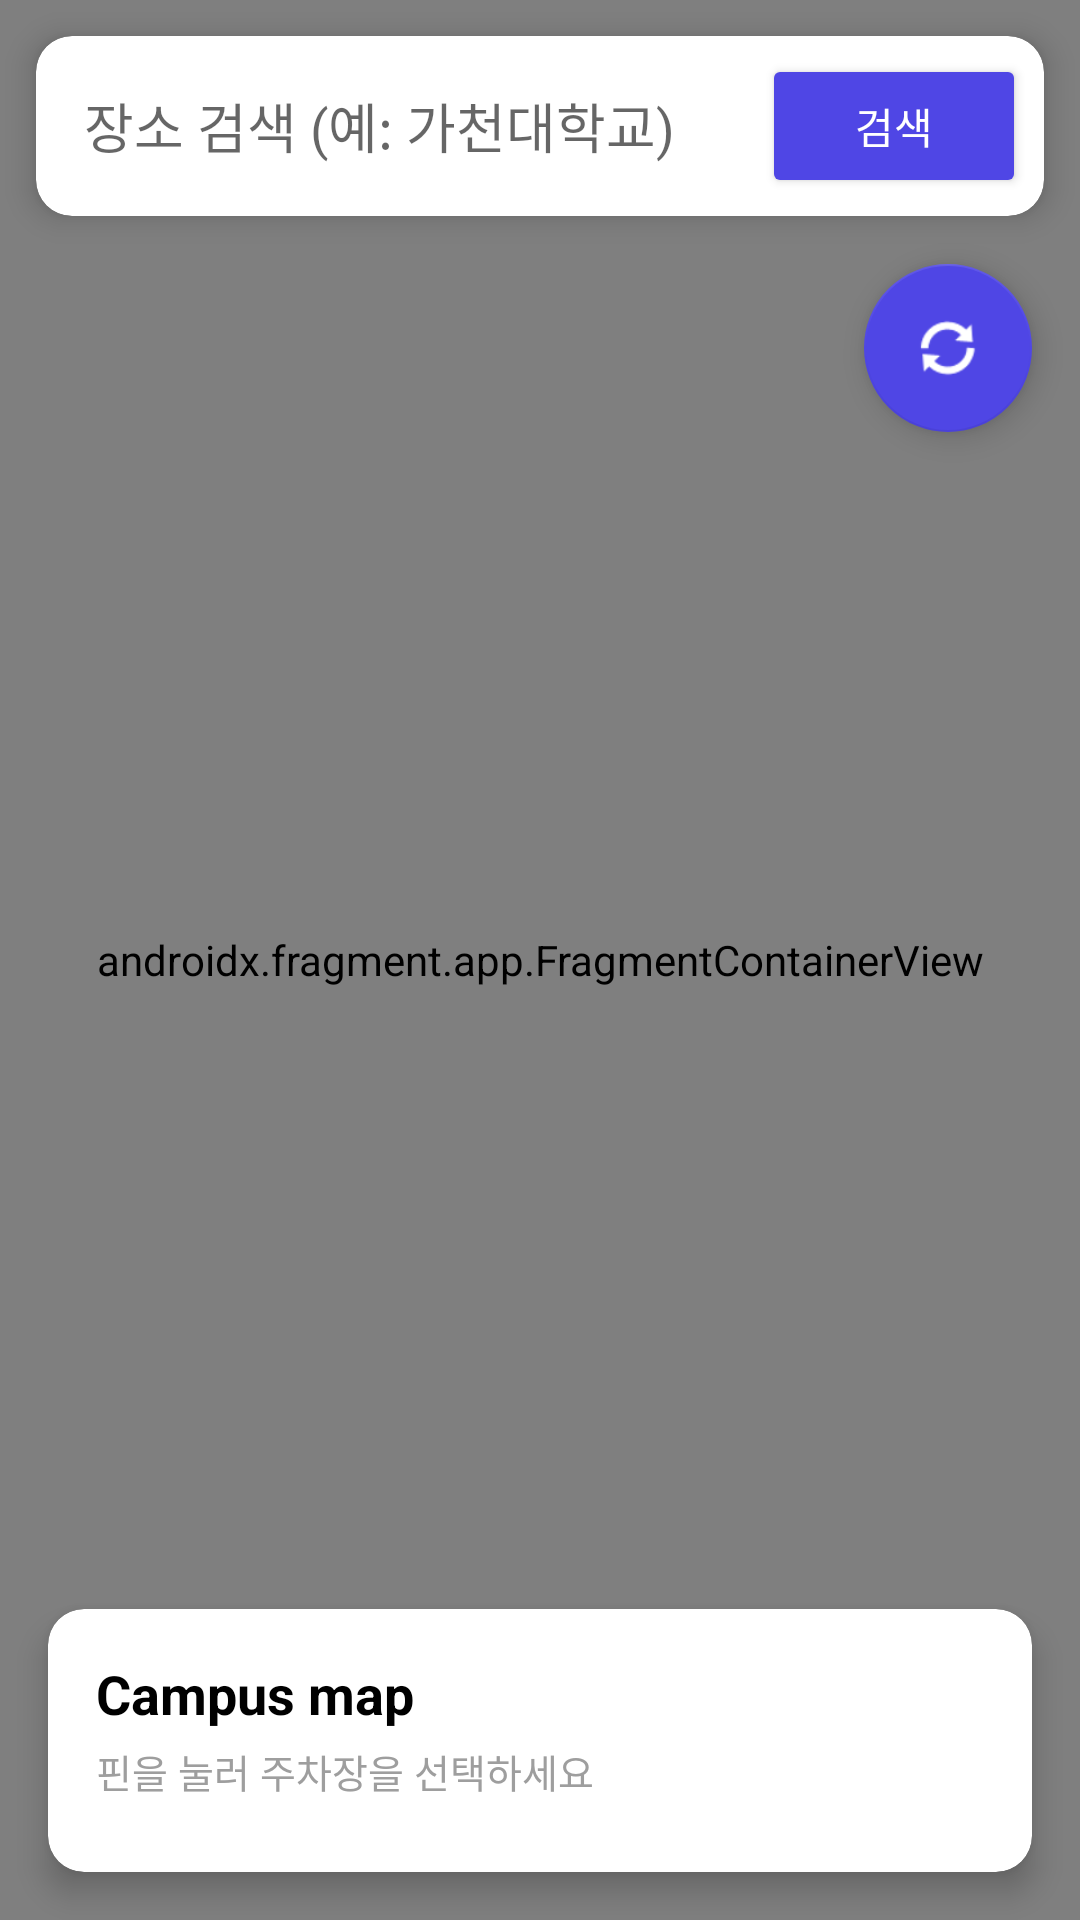

Named icons in this screenshot (1080px x 1920px) and their centers, [x,y]:
popup sync: [948,348]
